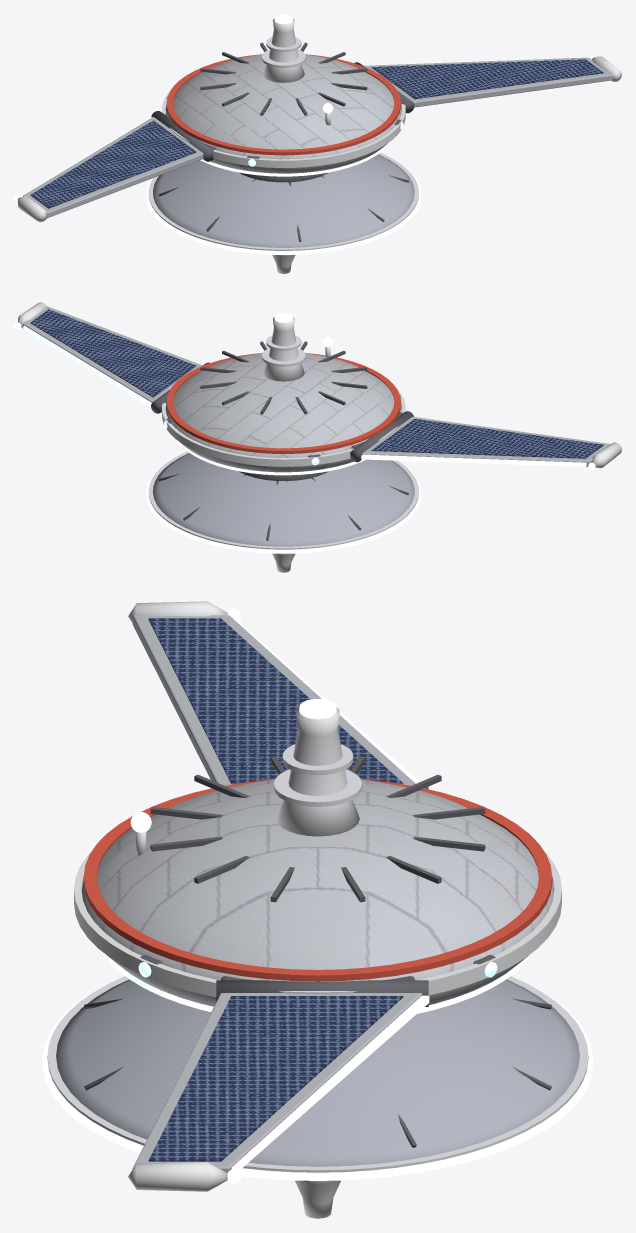
Rendered from relay_satellite.glb.
3 views of the same model, one above another, from view 1: azimuth 30°, elevation 25°; view 2: azimuth 150°, elevation 25°; view 3: azimuth 270°, elevation 25° (orthographic). The views are drawn at different scales.
Parts seen in each view (by area): view 1: Body, Dish, PanelL, PanelR; view 2: Body, Dish, PanelL, PanelR; view 3: Body, Dish, PanelR, PanelL, Horn.
Boxes of the visible parts, box(x1,y1,x2,y2) form: Body: box(162, 14, 405, 176); Dish: box(146, 152, 421, 254); PanelL: box(14, 111, 213, 222); PanelR: box(354, 54, 621, 113); Body: box(162, 312, 405, 475); Dish: box(146, 451, 421, 553); PanelL: box(350, 411, 621, 469); PanelR: box(14, 302, 209, 413); Body: box(74, 699, 561, 1013); Dish: box(43, 976, 592, 1180); PanelR: box(128, 980, 429, 1191); PanelL: box(128, 601, 428, 789); Horn: box(295, 1180, 340, 1218).
Size of the model in its own units: 3.07 by 1.26 by 1.24.
16 materials, 2 textured.
